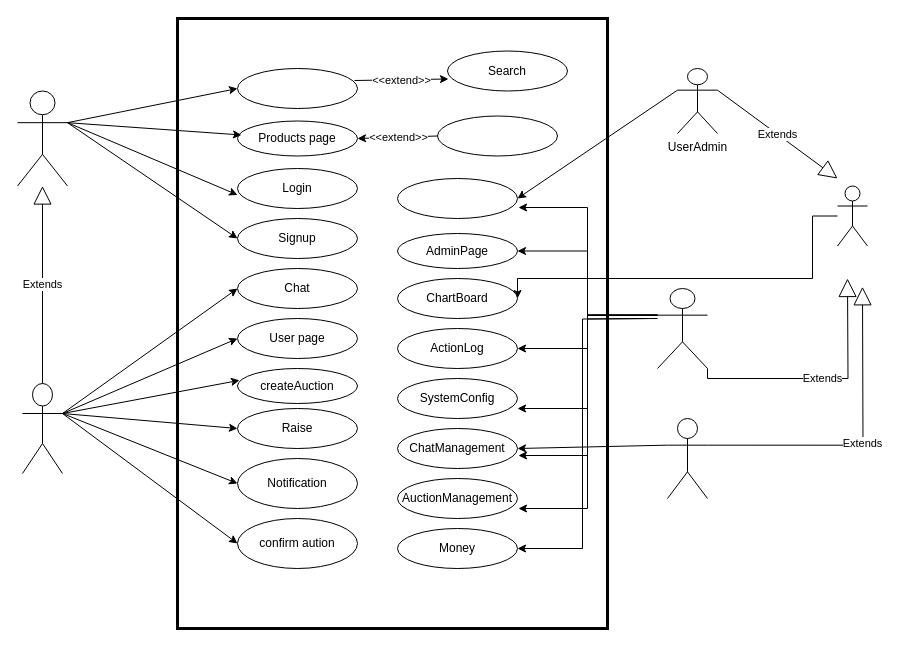
This 900x647 diagram has some shape labels left out. The shapes that lost their labels are listed below. From the top down, each one's box as (x1, y1, x2, y2) in pixels, then its label:
(236, 68, 358, 108): Homepage
(16, 90, 68, 186): Guest
(436, 115, 558, 156): Filter Product
(396, 178, 518, 218): UserManagement
(836, 185, 868, 246): Admin
(656, 288, 708, 368): SystemAdmin
(22, 382, 62, 474): User
(666, 418, 708, 498): ChatSupport
